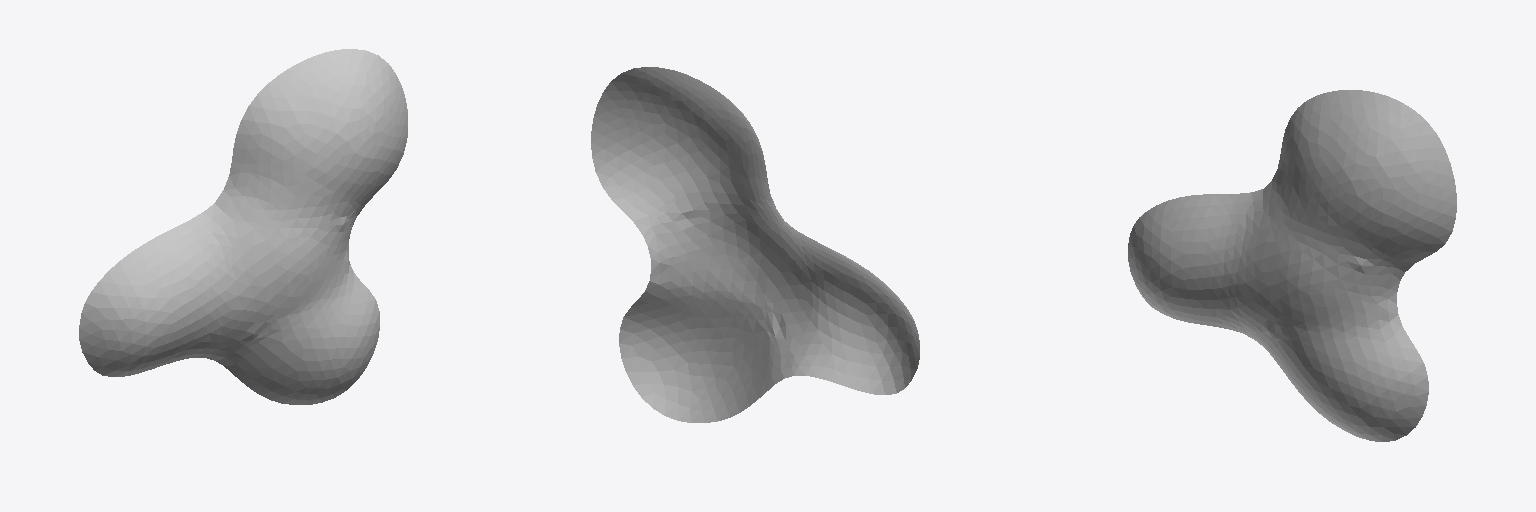
File: blob_1_opt.obj
3 views of the same model, side by side, from view 1: azimuth 30°, elevation 25°; view 2: azimuth 150°, elevation 25°; view 3: azimuth 330°, elevation 25° (orthographic).
Parts seen in each view (by area): view 1: [local-path]\Google_Drive\PS_structures\source\samples/blob_1_op; view 2: [local-path]\Google_Drive\PS_structures\source\samples/blob_1_op; view 3: [local-path]\Google_Drive\PS_structures\source\samples/blob_1_op.
Boxes of the visible parts, <box> form: [local-path]\Google_Drive\PS_structures\source\samples/blob_1_op: <box>79,49,407,404</box>; [local-path]\Google_Drive\PS_structures\source\samples/blob_1_op: <box>591,67,919,422</box>; [local-path]\Google_Drive\PS_structures\source\samples/blob_1_op: <box>1128,90,1456,441</box>.
Bounding box in the file's own units: 27.5 × 27.89 × 3.58.